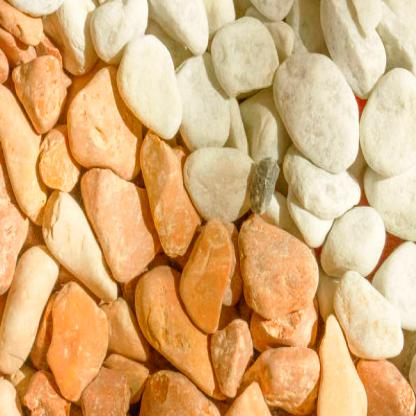Sedimentary_Limestone: (138, 267, 223, 400), (274, 56, 361, 182), (243, 206, 323, 336), (0, 236, 65, 374), (32, 278, 106, 397), (112, 34, 193, 142), (79, 166, 157, 278), (63, 70, 142, 180), (202, 17, 281, 107), (321, 0, 393, 96), (329, 273, 404, 358), (147, 132, 200, 252), (354, 71, 415, 175), (184, 214, 237, 332), (321, 195, 391, 284), (315, 322, 369, 415), (17, 43, 74, 131), (247, 348, 321, 415), (83, 0, 151, 67), (206, 318, 257, 397), (354, 351, 414, 415)
